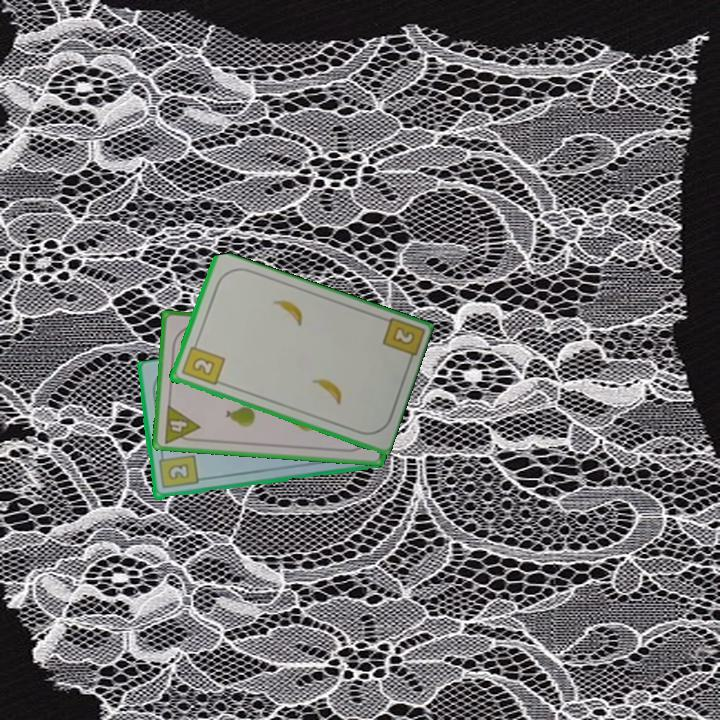2b: (178, 338, 227, 388), (155, 450, 200, 492), (389, 323, 418, 348)
4p: (160, 401, 202, 446)
